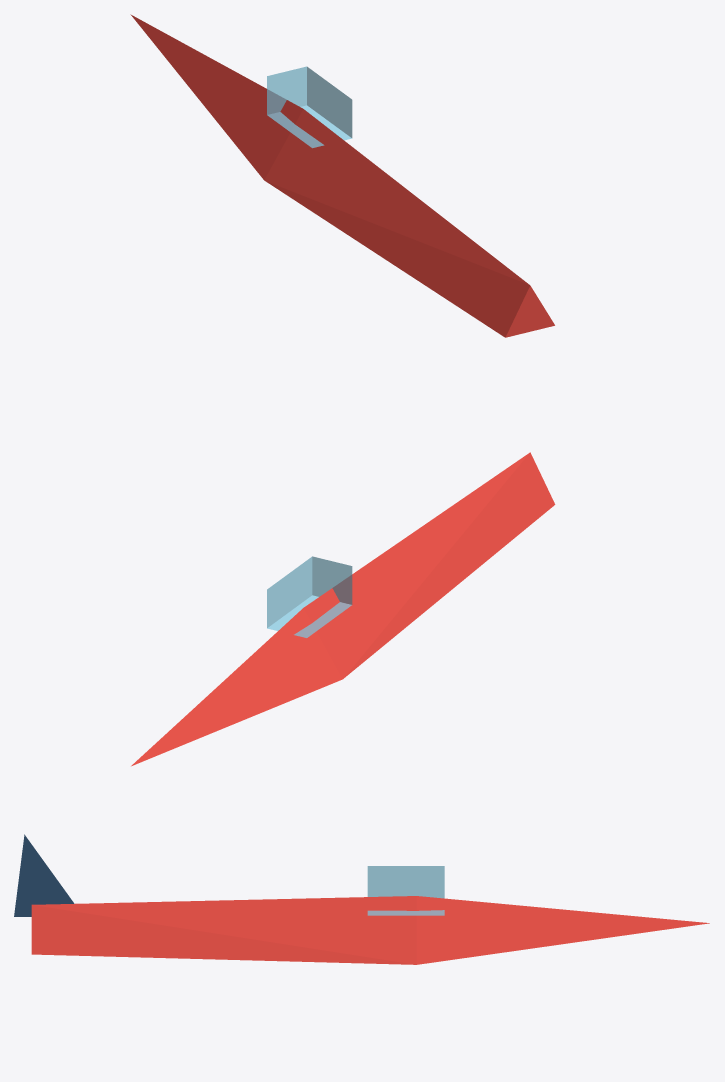
The model's file is handfly-plane.gltf.
3 views of the same model, one above another, from view 1: azimuth 30°, elevation 25°; view 2: azimuth 150°, elevation 25°; view 3: azimuth 270°, elevation 25° (orthographic). The views are drawn at different scales.
Visible parts, largest first — view 1: fuselage, canopy; view 2: fuselage, canopy; view 3: fuselage, canopy, tailplane.
Boxes of the visible parts, x1=… form: fuselage: x1=130, y1=14, x2=554, y2=337; canopy: x1=267, y1=66, x2=352, y2=148; fuselage: x1=131, y1=452, x2=555, y2=766; canopy: x1=267, y1=556, x2=352, y2=637; fuselage: x1=31, y1=896, x2=709, y2=964; canopy: x1=367, y1=866, x2=444, y2=915; tailplane: x1=14, y1=834, x2=74, y2=916.
Size of the model in its own units: 9.2 by 1.8 by 9.95.
